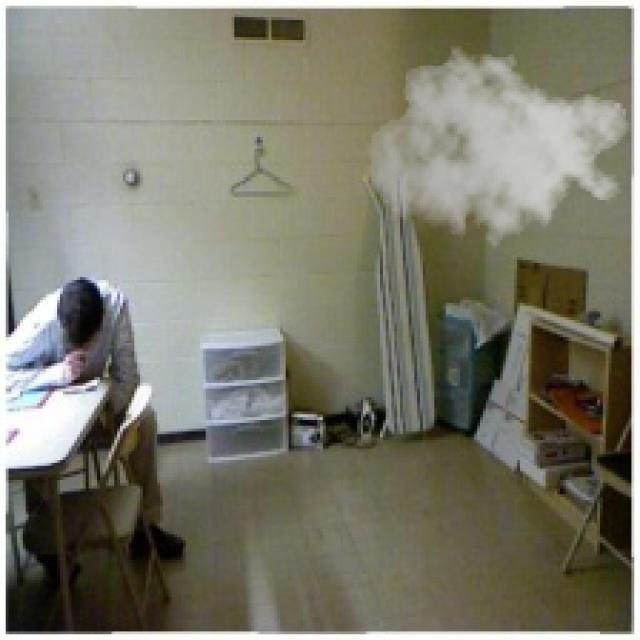Smoke: (366, 40, 632, 260)
